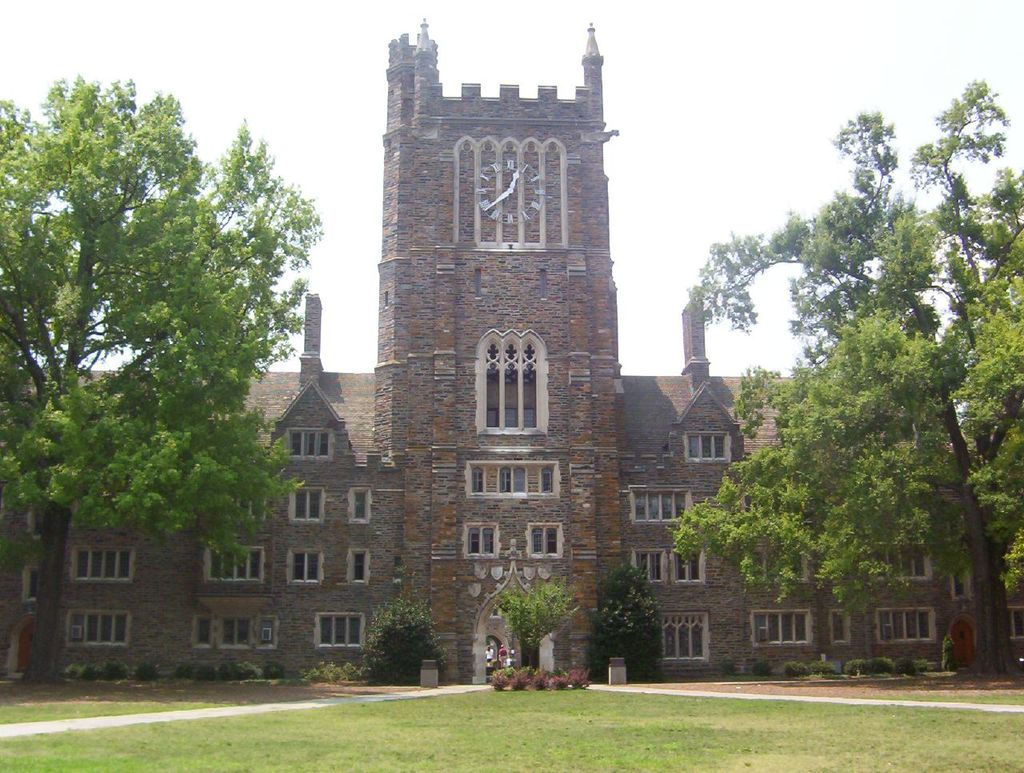Tree: (664, 77, 1023, 678), (0, 73, 325, 684)
